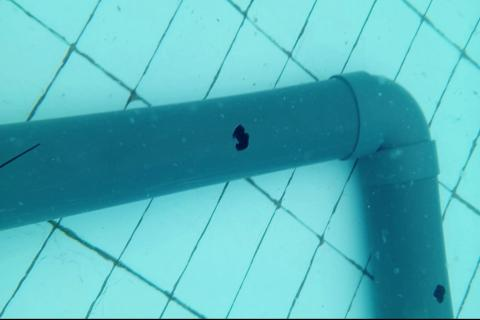kebocoran: (233, 122, 250, 153), (433, 283, 446, 303)
keretakan: (0, 141, 42, 167)
